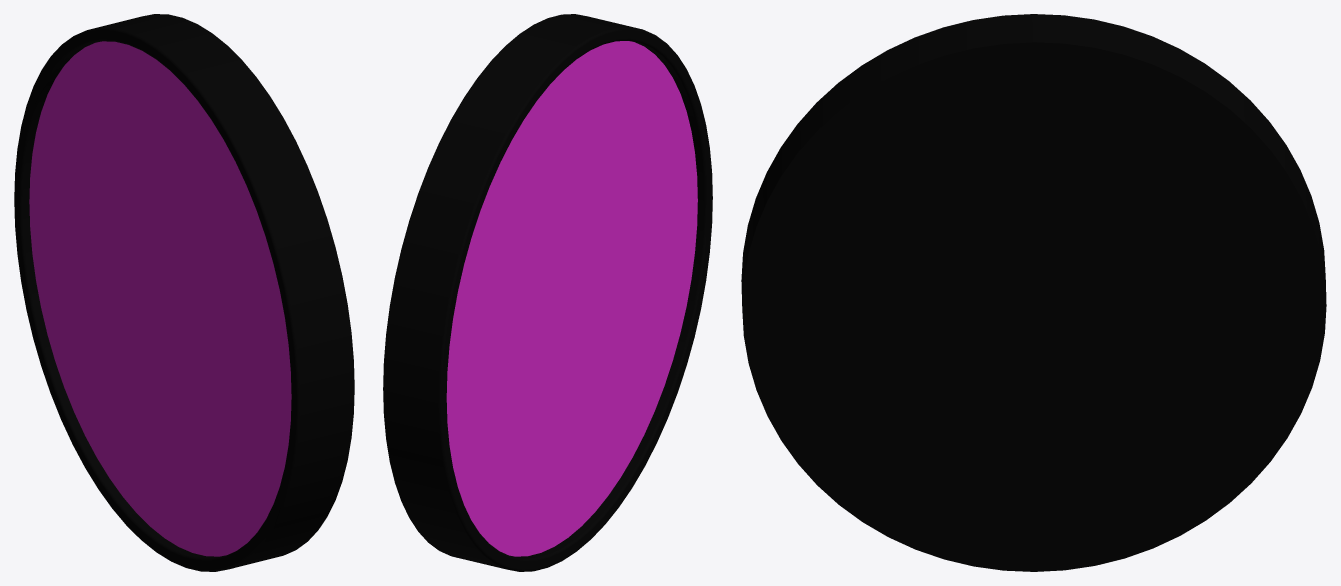
File: clock.fbx
3 views of the same model, side by side, from view 1: azimuth 30°, elevation 25°; view 2: azimuth 150°, elevation 25°; view 3: azimuth 270°, elevation 25° (orthographic). The views are drawn at different scales.
Parts seen in each view (by area): view 1: Glass.001, RIM.001, Back.001; view 2: Glass.001, RIM.001, Back.001; view 3: Back.001, RIM.001.
Part boxes in pixels (bbox=[...]): Glass.001: bbox=[29, 41, 291, 556]; RIM.001: bbox=[14, 20, 330, 571]; Back.001: bbox=[120, 14, 354, 561]; Glass.001: bbox=[446, 41, 697, 556]; RIM.001: bbox=[407, 19, 712, 571]; Back.001: bbox=[383, 14, 607, 561]; Back.001: bbox=[742, 30, 1326, 571]; RIM.001: bbox=[741, 14, 1326, 293].
Bounding box in the file's own units: 4.56 × 35 × 35.04.
